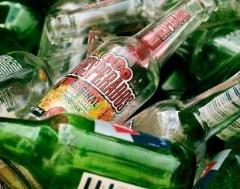glass: (0, 0, 240, 126)
